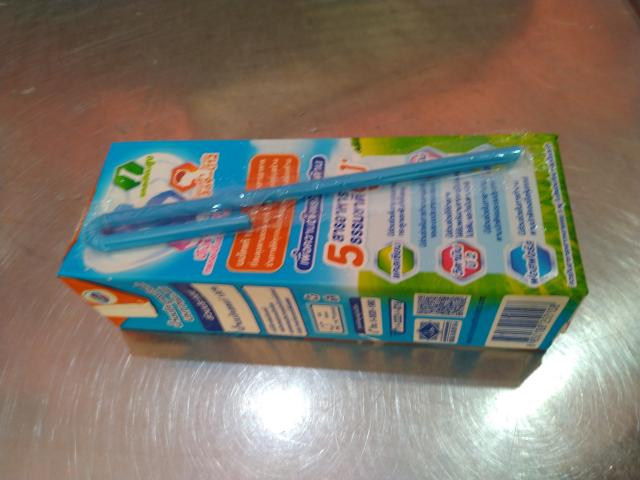drink_box: (46, 130, 590, 377)
